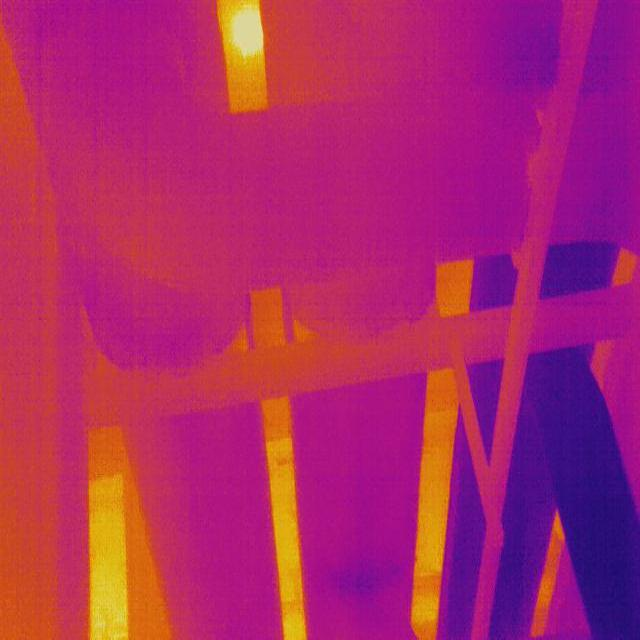leakage: (315, 554, 412, 602)
